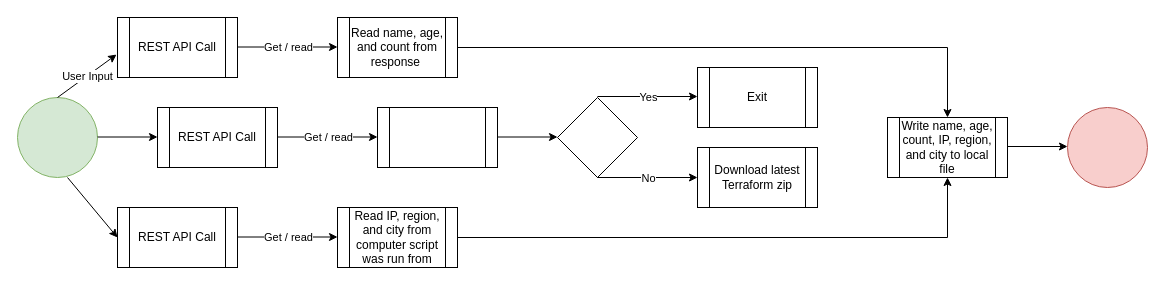
This 1165x285 diagram has some shape labels left out. The shapes that lost their labels are listed below. From the top down, each one's centre as x and y in pixels, then its label:
the point at 57,137: Start
the point at 437,137: Get last URL that contains linux_amd64 and does not contain rc or beta
the point at 597,137: Does the zip file already exist for same version
the point at 1107,147: Stop
